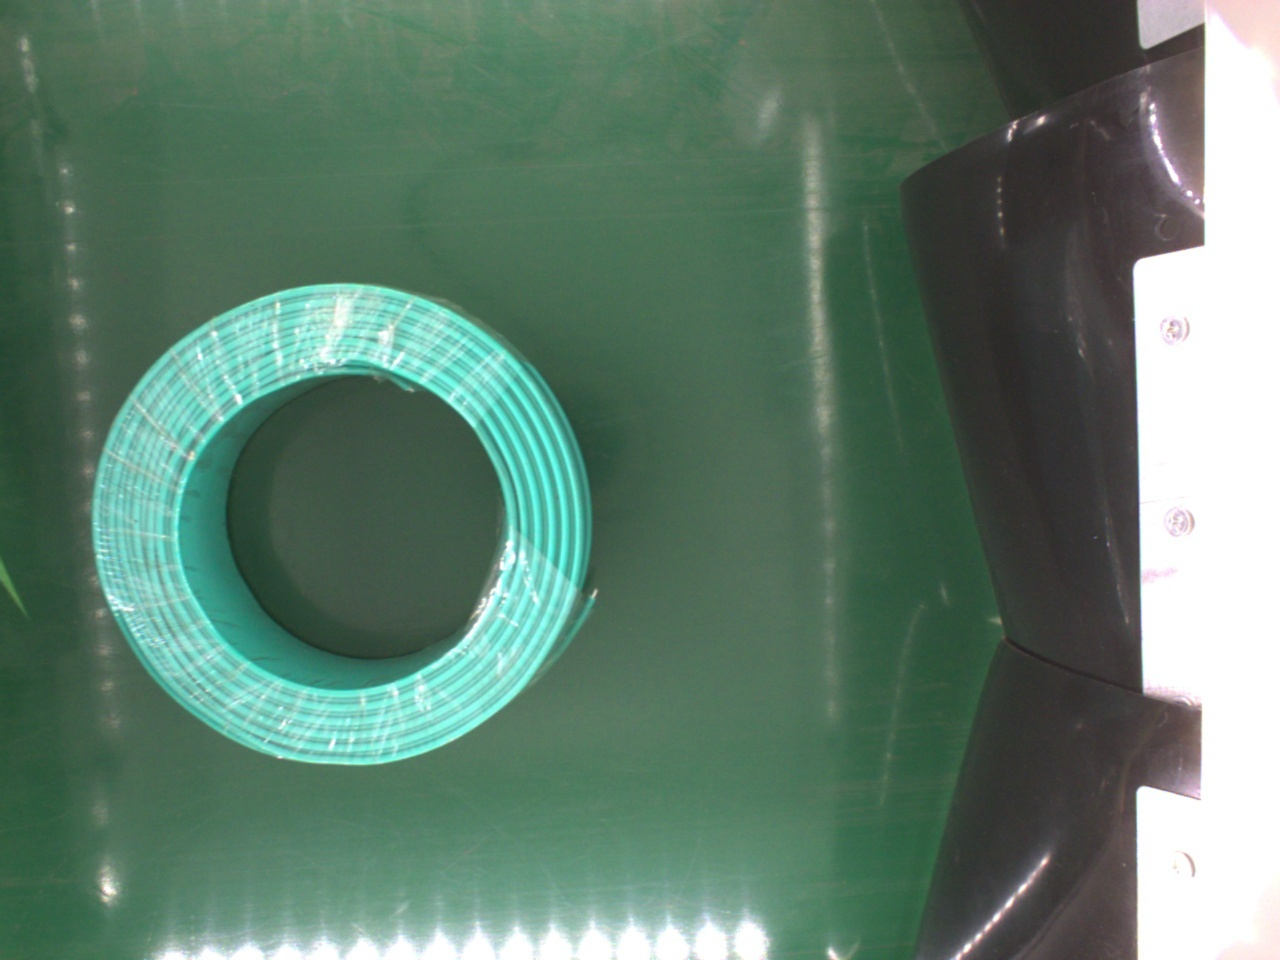green: (96, 282, 593, 771)
